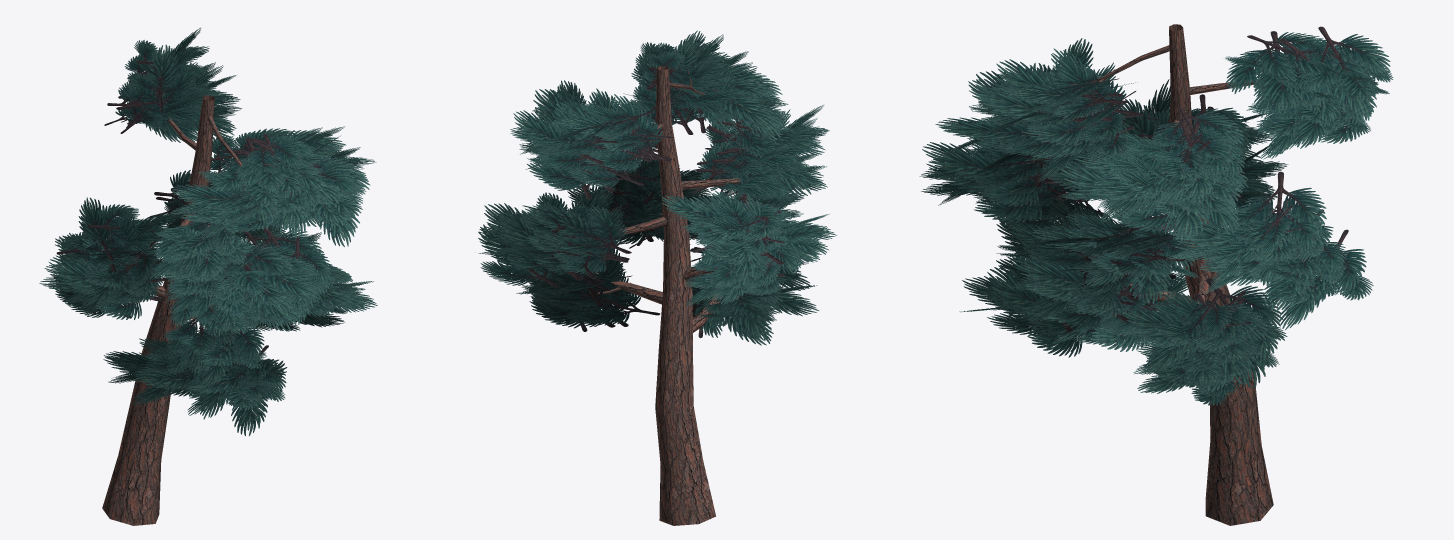
File: nature-blue-windswept-pine_v3.glb
3 renders of one model, left to right at view 1: azimuth 30°, elevation 25°; view 2: azimuth 150°, elevation 25°; view 3: azimuth 270°, elevation 25°, orthographic. The views are drawn at different scales.
Visible parts, largest first — view 1: nature-blue-windswept-pine; view 2: nature-blue-windswept-pine; view 3: nature-blue-windswept-pine.
Part boxes in pixels (x1=…): nature-blue-windswept-pine: x1=39, y1=27, x2=377, y2=525; nature-blue-windswept-pine: x1=478, y1=30, x2=836, y2=525; nature-blue-windswept-pine: x1=919, y1=24, x2=1393, y2=525.
Size of the model in its own units: 5.33 by 6.1 by 5.92.
Materials: 2 (2 with a texture image).
